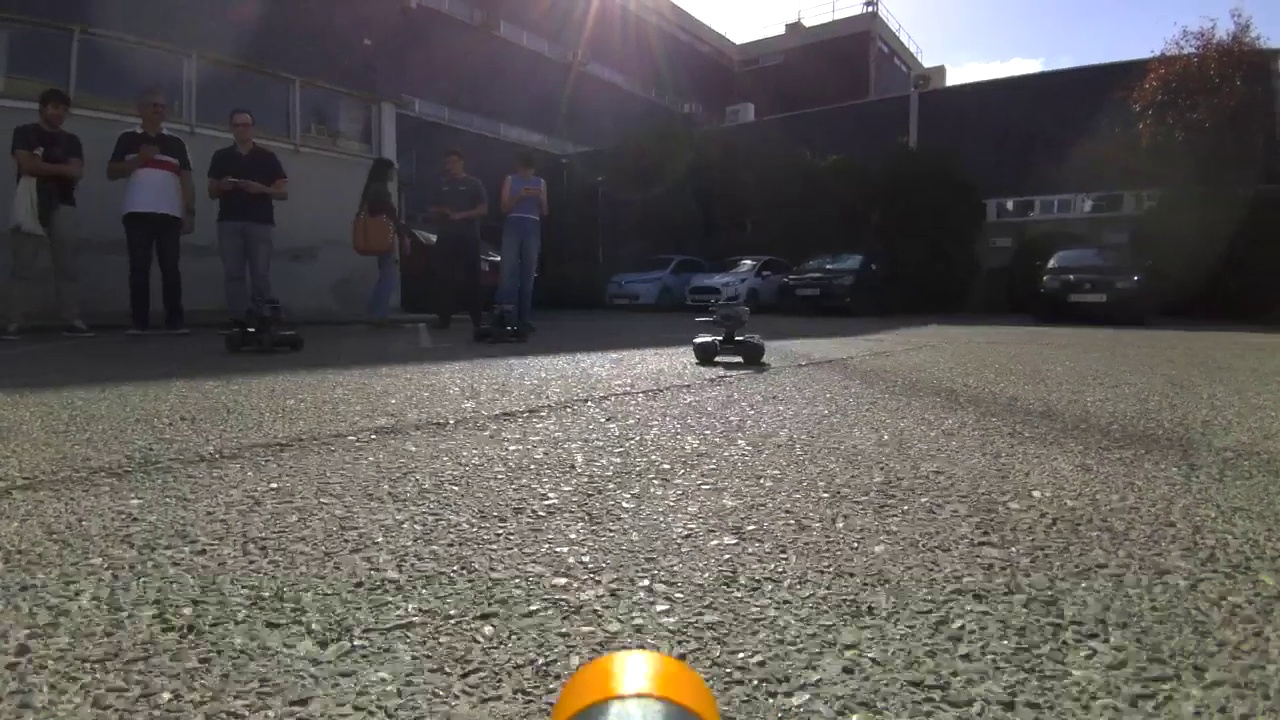robot: (672, 291, 775, 378), (214, 295, 307, 351), (463, 294, 537, 350)
